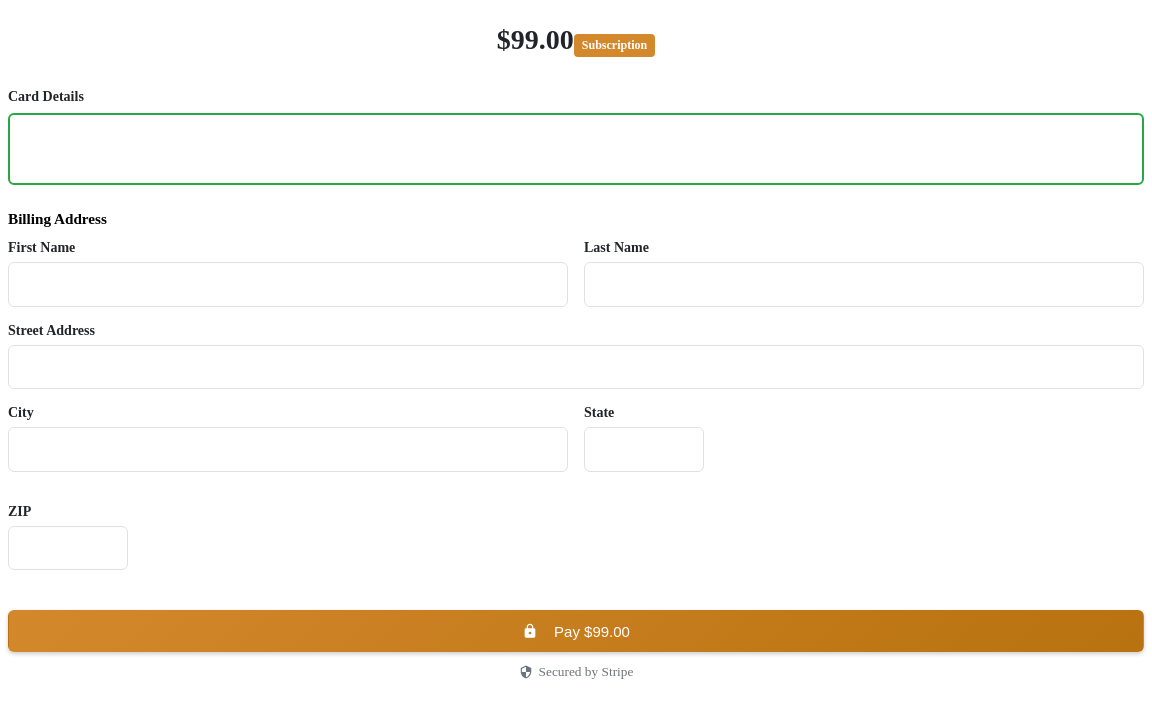
Scenario: PaymentComponent billing address › will not start a payment with an incomplete required address
Click the button "Pay $99.00".
click(576, 631)  # box [8, 610, 1144, 652]
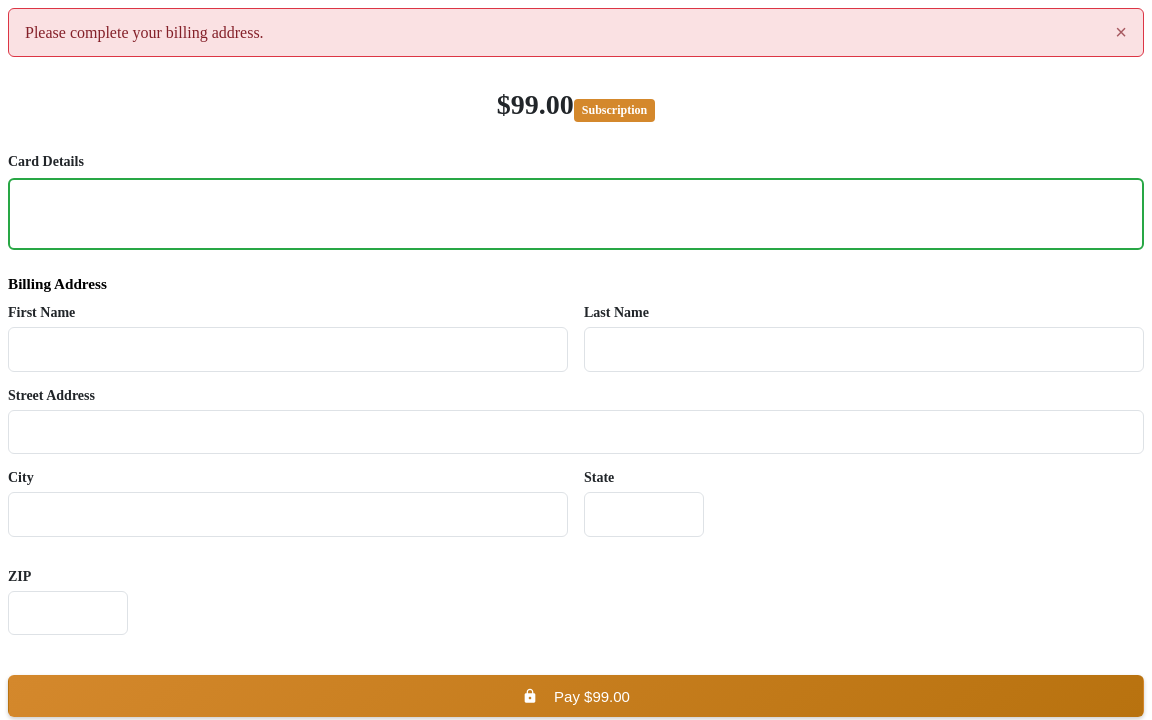
Now the text "Please complete your billing address." is shown, box [25, 24, 264, 42]
